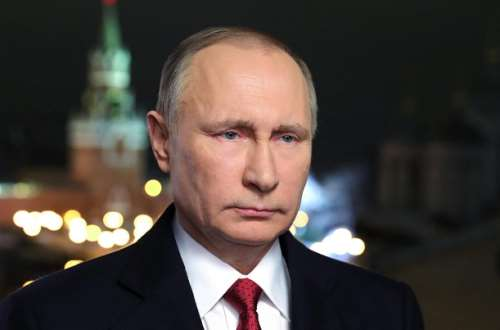person: (143, 25, 319, 249)
